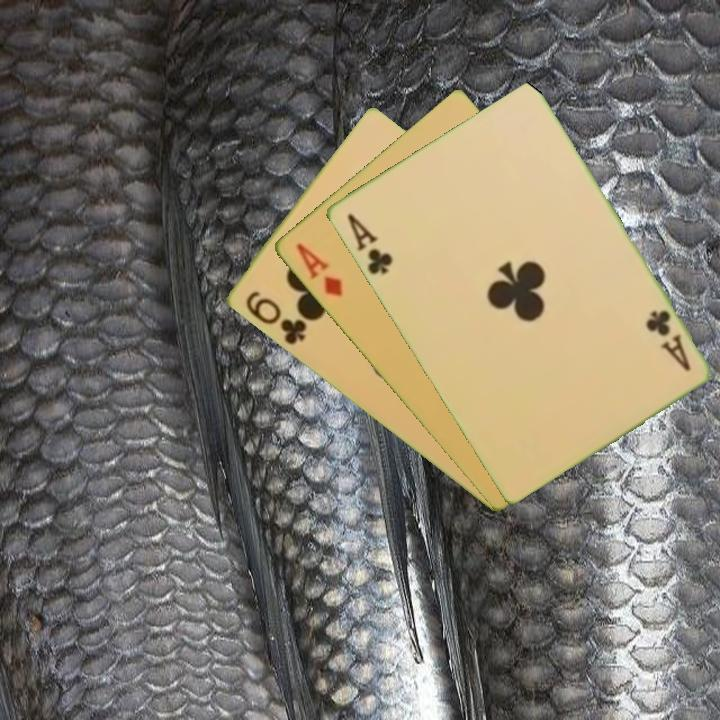6c: (241, 287, 309, 348)
Ac: (343, 209, 395, 278), (641, 306, 693, 374)
Ad: (291, 239, 345, 300)
